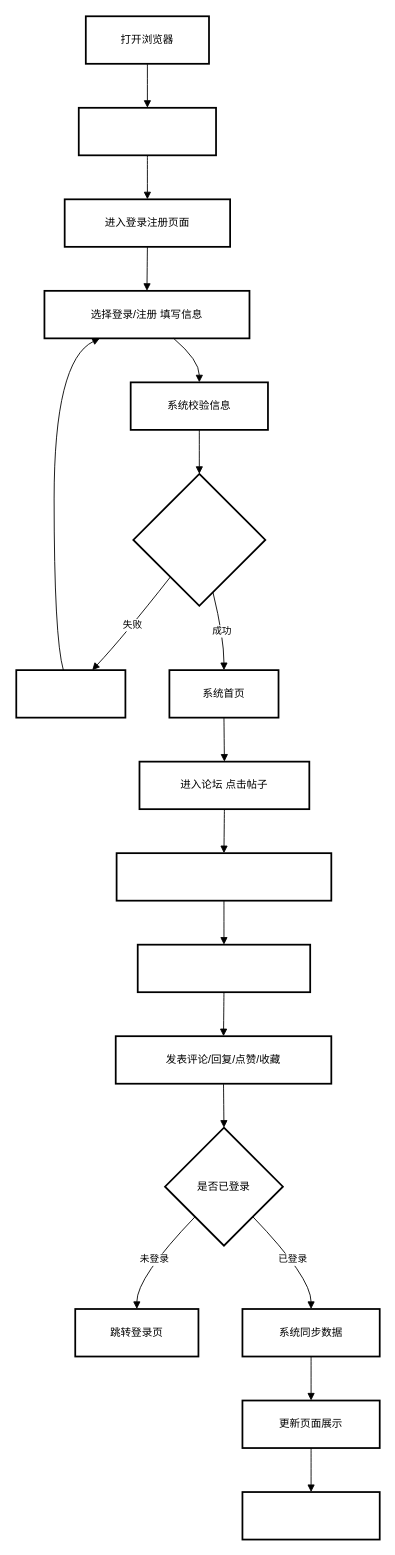
This 395x1555 diagram has some shape labels left out. The shapes that lost their labels are listed below. From the top down, each one's centre as x and y in pixels, then its label:
At point (146, 131): "访问系统地址".
At point (199, 539): "验证是否成功".
At point (70, 693): "提示错误".
At point (223, 876): "帖子详情页：内容+评论区".
At point (223, 968): "浏览帖子/查看评论".
At point (310, 1515): "帖子交互完成".
